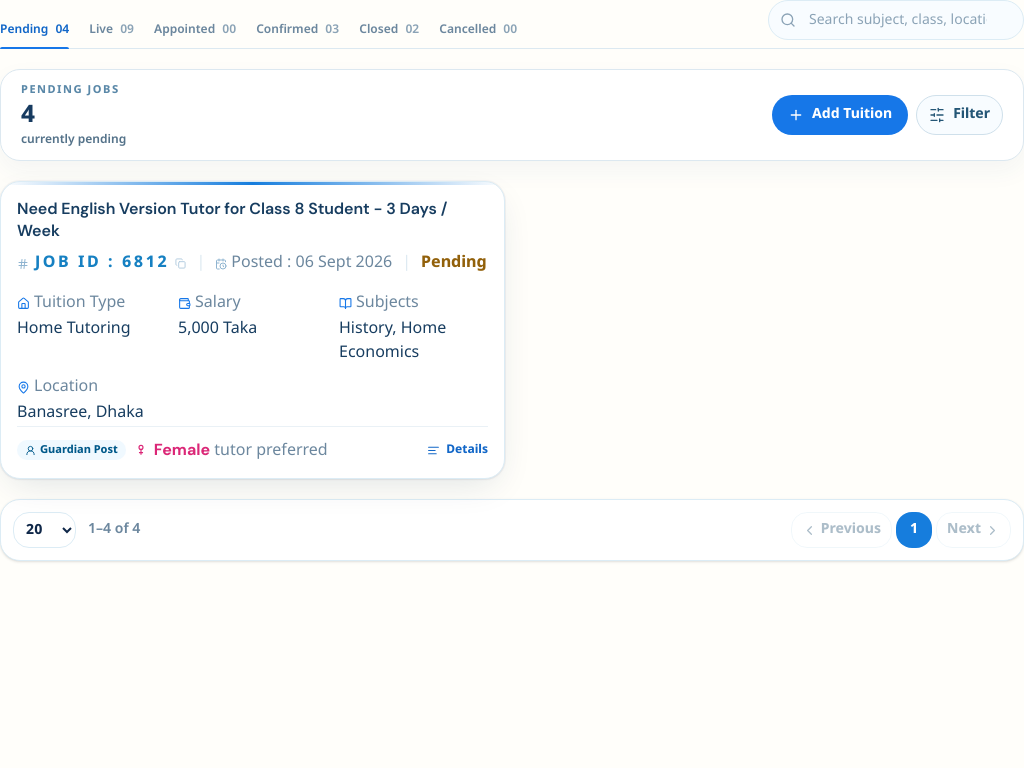
Test: Admin Posted jobs board › opens the same details dialog and ends it with the Guardian's name and number
What coordinates should you click on to do the following:
click the button named "Job ID 6812"
I would click on:
 (252, 330)
Its box is [0,181,505,479].
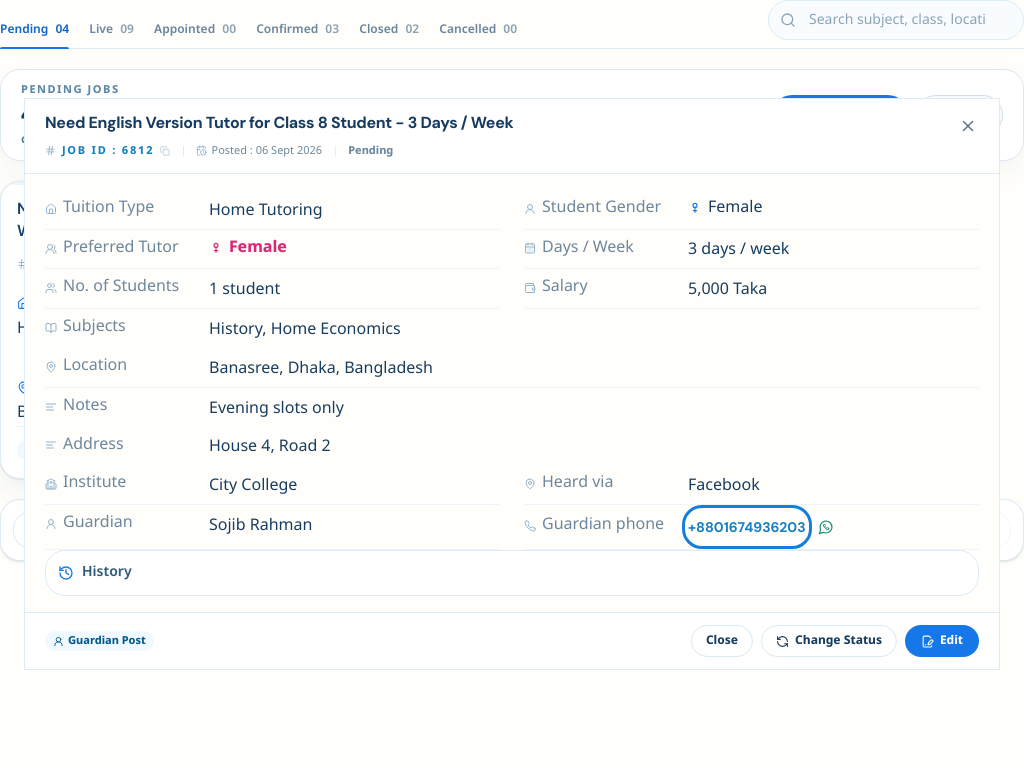
expect the button "Job ID : 6812" is shown: met, box [41,141,174,161]
expect the text "Evening slots only" is shown: met, box [209,398,344,420]
expect the text "House 4, Road 2" is shown: met, box [209,436,331,458]
